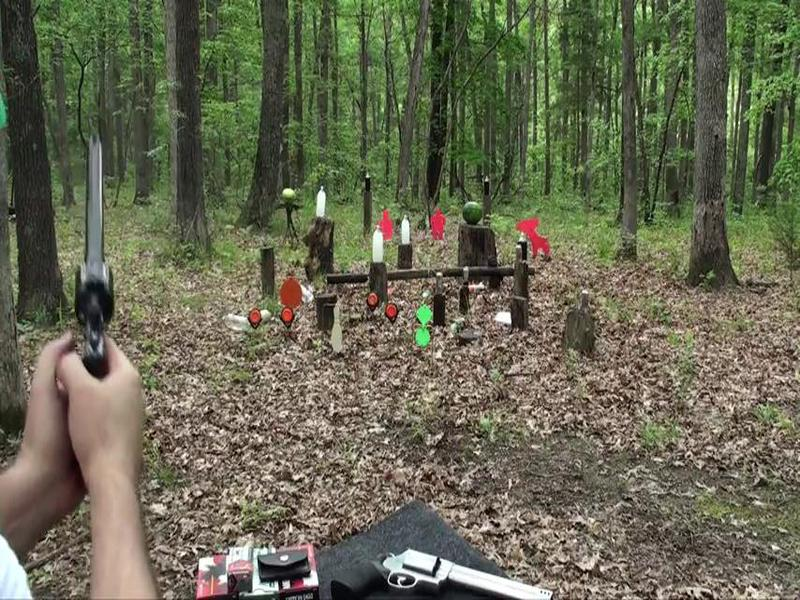Revolver: (68, 134, 147, 390)
